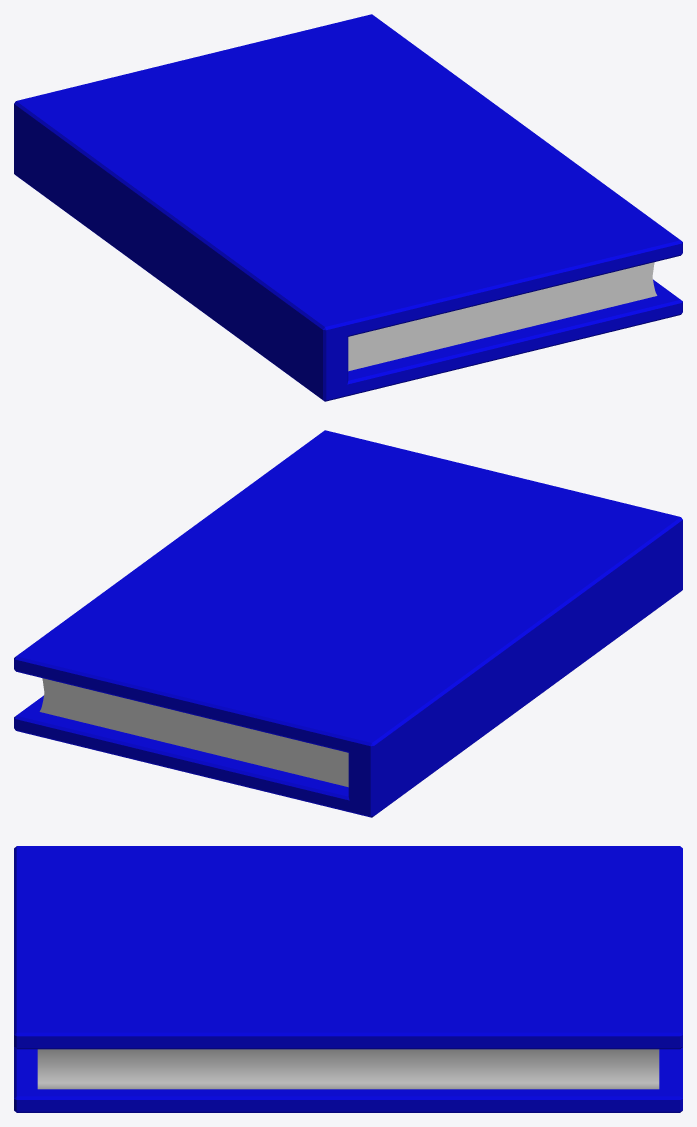
Rendered from Book_2.fbx.
The picture shows the model from 3 angles, top to bottom: view 1: azimuth 30°, elevation 25°; view 2: azimuth 150°, elevation 25°; view 3: azimuth 270°, elevation 25°; orthographic projection. The views are drawn at different scales.
Parts seen in each view (by area): view 1: pCube1; view 2: pCube1; view 3: pCube1.
Boxes of the visible parts, x1,y1,x2,y2 form: pCube1: (14, 14, 682, 401); pCube1: (14, 430, 682, 817); pCube1: (14, 846, 682, 1112).
Size of the model in its own units: 3.76 by 0.7452 by 5.63.
